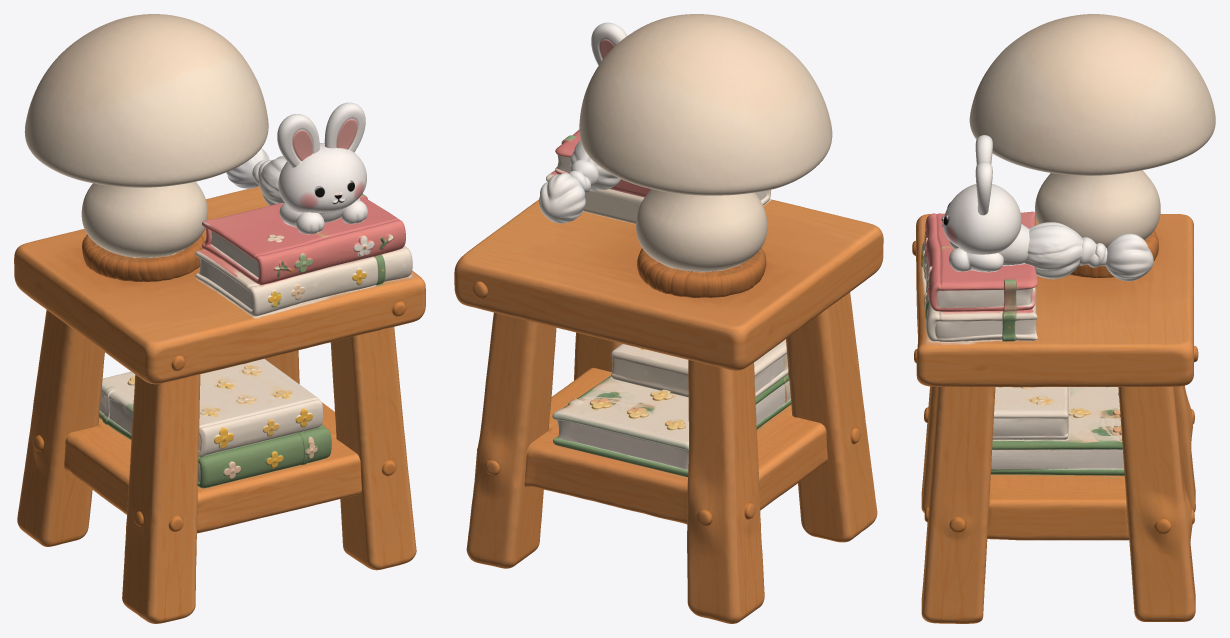
Rendered from plant-stool.glb.
3 views of the same model, side by side, from view 1: azimuth 30°, elevation 25°; view 2: azimuth 150°, elevation 25°; view 3: azimuth 270°, elevation 25° (orthographic). The views are drawn at different scales.
Size of the model in its own units: 1.14 by 1.9 by 1.01.
1 material, 1 textured.
